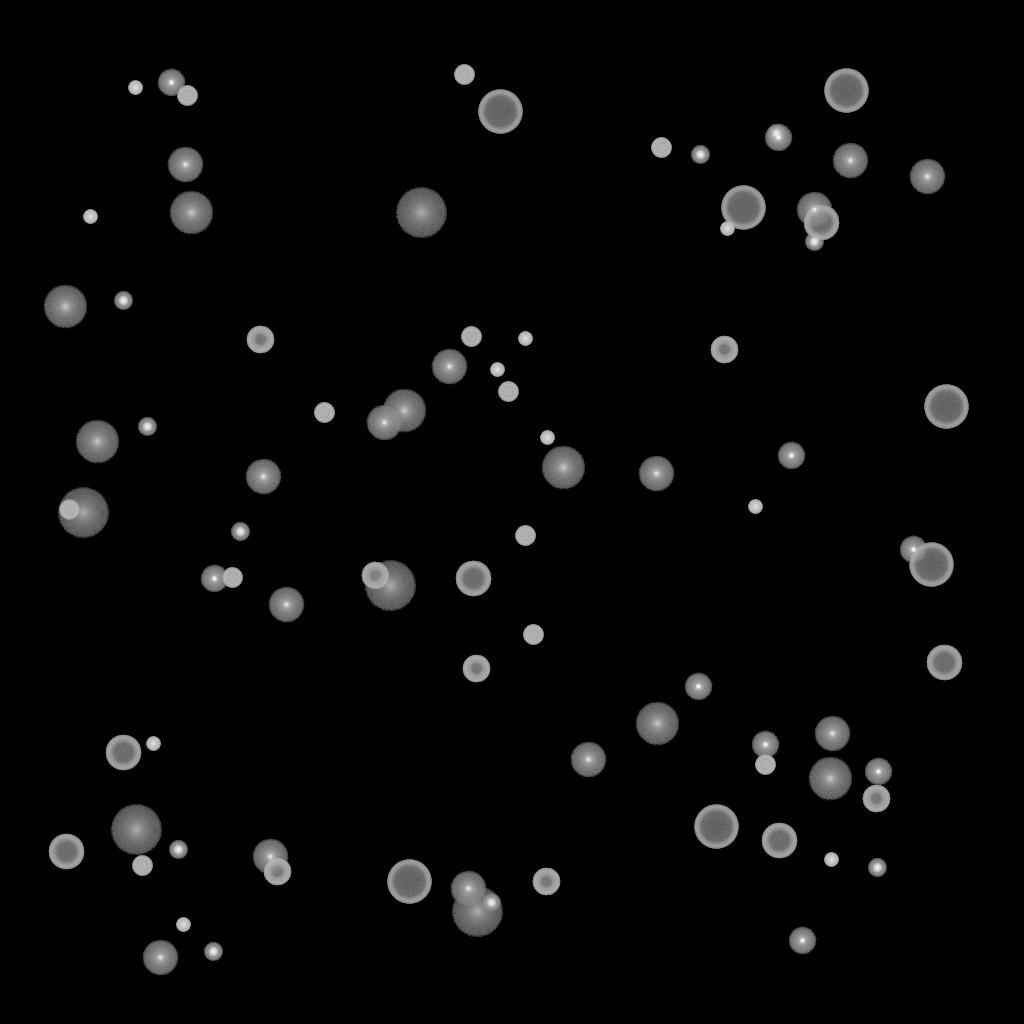depth:-10: (777, 442, 805, 470), (684, 673, 712, 701), (200, 565, 228, 593), (864, 758, 892, 786), (751, 731, 779, 759), (788, 927, 816, 955), (899, 536, 927, 564), (157, 69, 185, 97), (764, 124, 792, 152)
depth:-20: (691, 146, 709, 164), (114, 292, 132, 310), (482, 894, 500, 912), (138, 418, 156, 436), (805, 233, 823, 251), (868, 859, 886, 877), (204, 943, 222, 961), (231, 523, 249, 541), (169, 841, 187, 859), (767, 125, 785, 143)
depth:-30: (824, 853, 838, 867), (83, 210, 97, 224), (748, 500, 762, 514), (540, 431, 554, 445), (518, 332, 532, 346), (128, 81, 142, 95), (146, 737, 160, 751), (176, 918, 190, 932), (720, 222, 734, 236), (490, 363, 504, 377)
depth:-40: (454, 65, 474, 85), (523, 625, 543, 645), (314, 403, 334, 423), (222, 568, 242, 588), (651, 138, 671, 158), (177, 86, 197, 106), (498, 382, 518, 402), (59, 500, 79, 520), (755, 755, 775, 775), (132, 856, 152, 876), (515, 526, 535, 546), (461, 327, 481, 347)
depth:-50: (246, 326, 274, 354), (462, 655, 490, 683), (862, 785, 890, 813), (361, 562, 389, 590), (532, 868, 560, 896), (710, 336, 738, 364), (263, 858, 291, 886)
depth:-60: (926, 645, 962, 681), (803, 205, 839, 241), (761, 823, 797, 859), (48, 834, 84, 870), (105, 735, 141, 771), (455, 561, 491, 597)
depth:-70: (721, 186, 765, 230), (909, 543, 953, 587), (924, 385, 968, 429), (387, 860, 431, 904), (478, 90, 522, 134), (694, 805, 738, 849), (824, 69, 868, 113)
depth:0: (796, 192, 832, 228), (450, 871, 486, 907), (167, 147, 203, 183), (431, 349, 467, 385), (245, 459, 281, 495), (832, 143, 868, 179), (252, 839, 288, 875), (570, 742, 606, 778), (366, 405, 402, 441), (142, 940, 178, 976), (814, 716, 850, 752), (909, 159, 945, 195), (268, 587, 304, 623), (638, 456, 674, 492)
depth:10: (382, 389, 426, 433), (635, 702, 679, 746), (808, 757, 852, 801), (43, 285, 87, 329), (541, 446, 585, 490), (169, 191, 213, 235), (75, 420, 119, 464)
depth:20: (451, 887, 503, 937), (110, 805, 162, 855), (395, 188, 447, 238), (364, 561, 416, 611), (57, 488, 109, 538)
